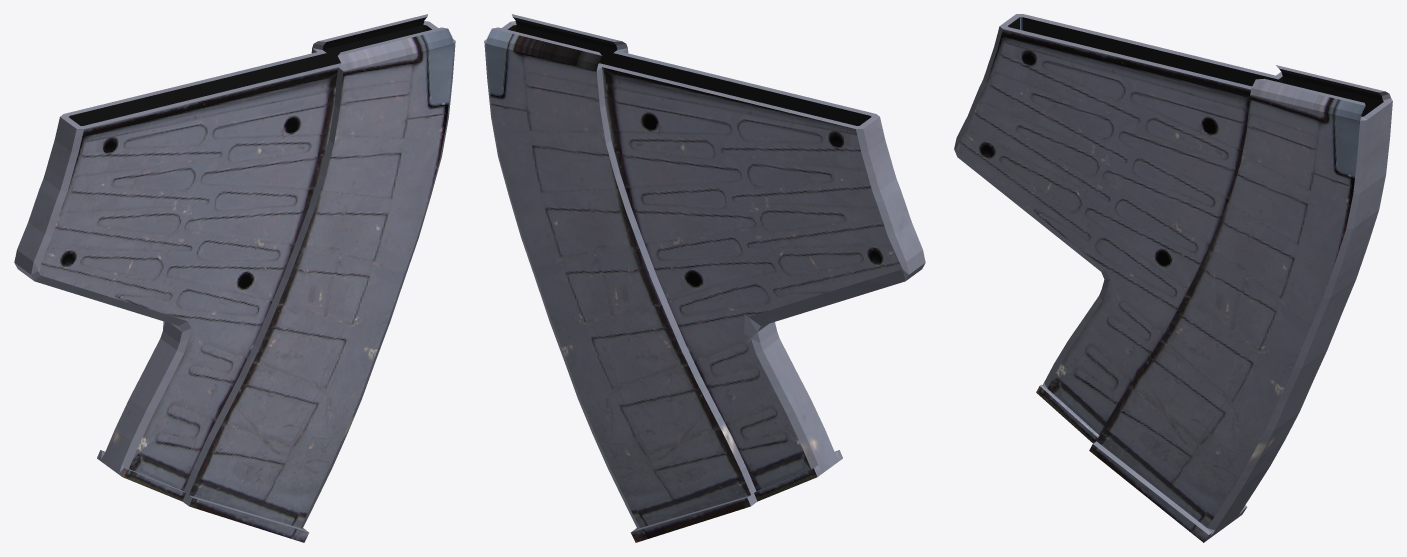
File: emptymag.fbx
The picture shows the model from 3 angles, left to right: view 1: azimuth 30°, elevation 25°; view 2: azimuth 150°, elevation 25°; view 3: azimuth 330°, elevation 25°; orthographic projection.
Visible parts, largest first — view 1: Cube.002; view 2: Cube.002; view 3: Cube.002.
Boxes of the visible parts, left/top/right/bottom form: Cube.002: left=14, top=14, right=455, bottom=542; Cube.002: left=484, top=14, right=925, bottom=542; Cube.002: left=954, top=14, right=1392, bottom=542.
Bounding box in the file's own units: 53.68 × 57.42 × 8.61.
2 materials, 1 textured.
